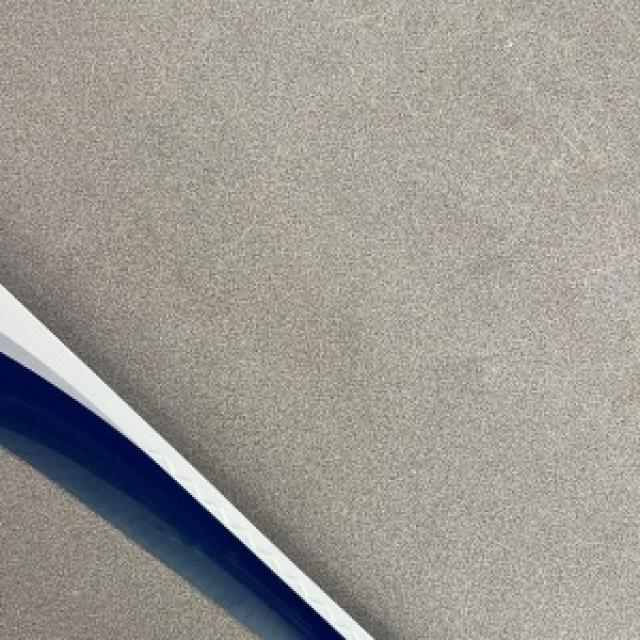healthy: (0, 452, 247, 638)
